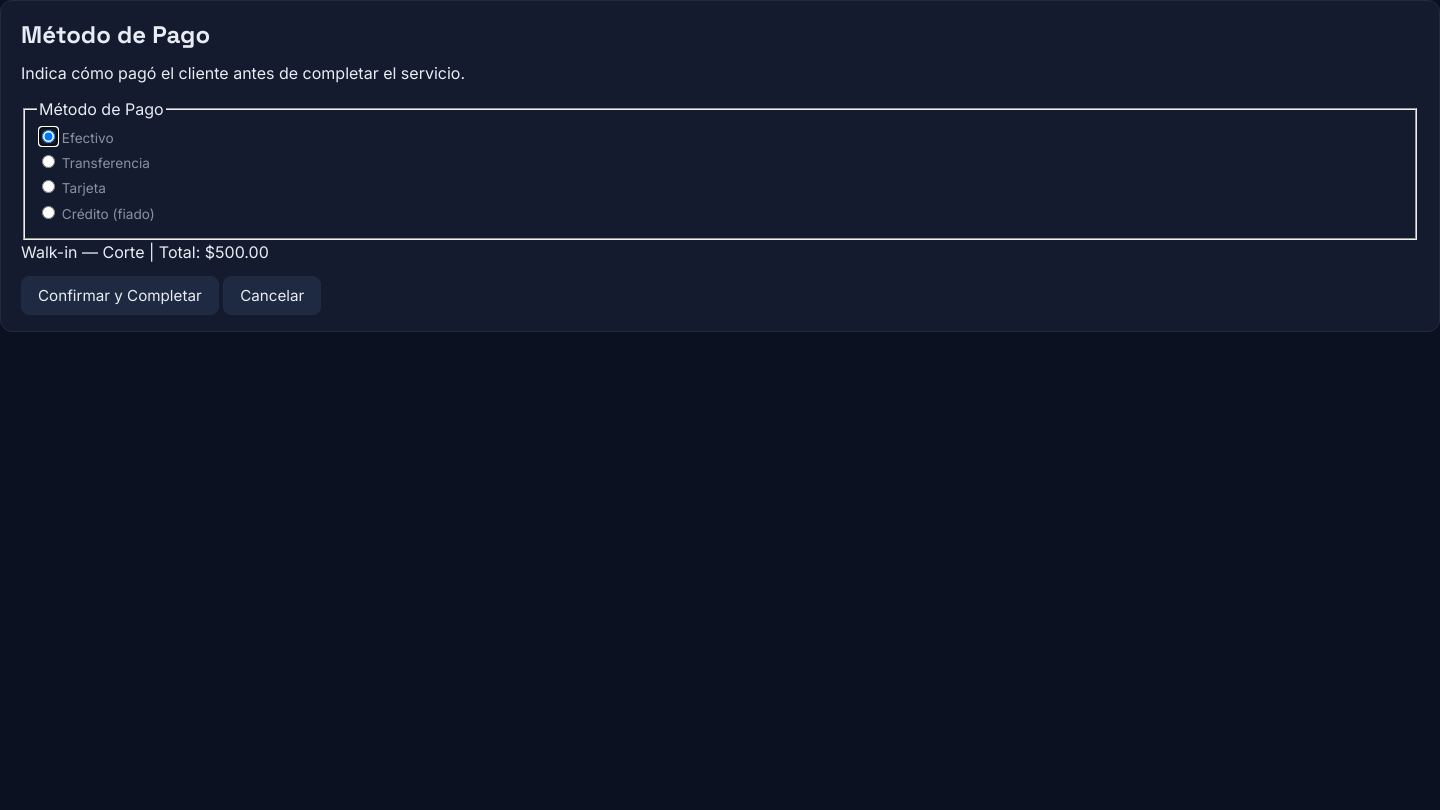
PaymentMethodModal › walk-in + crédito: exige elegir un cliente registrado antes de confirmar
Click the radio button labelled "Crédito (fiado)" at (48, 212), box [42,206,55,219]
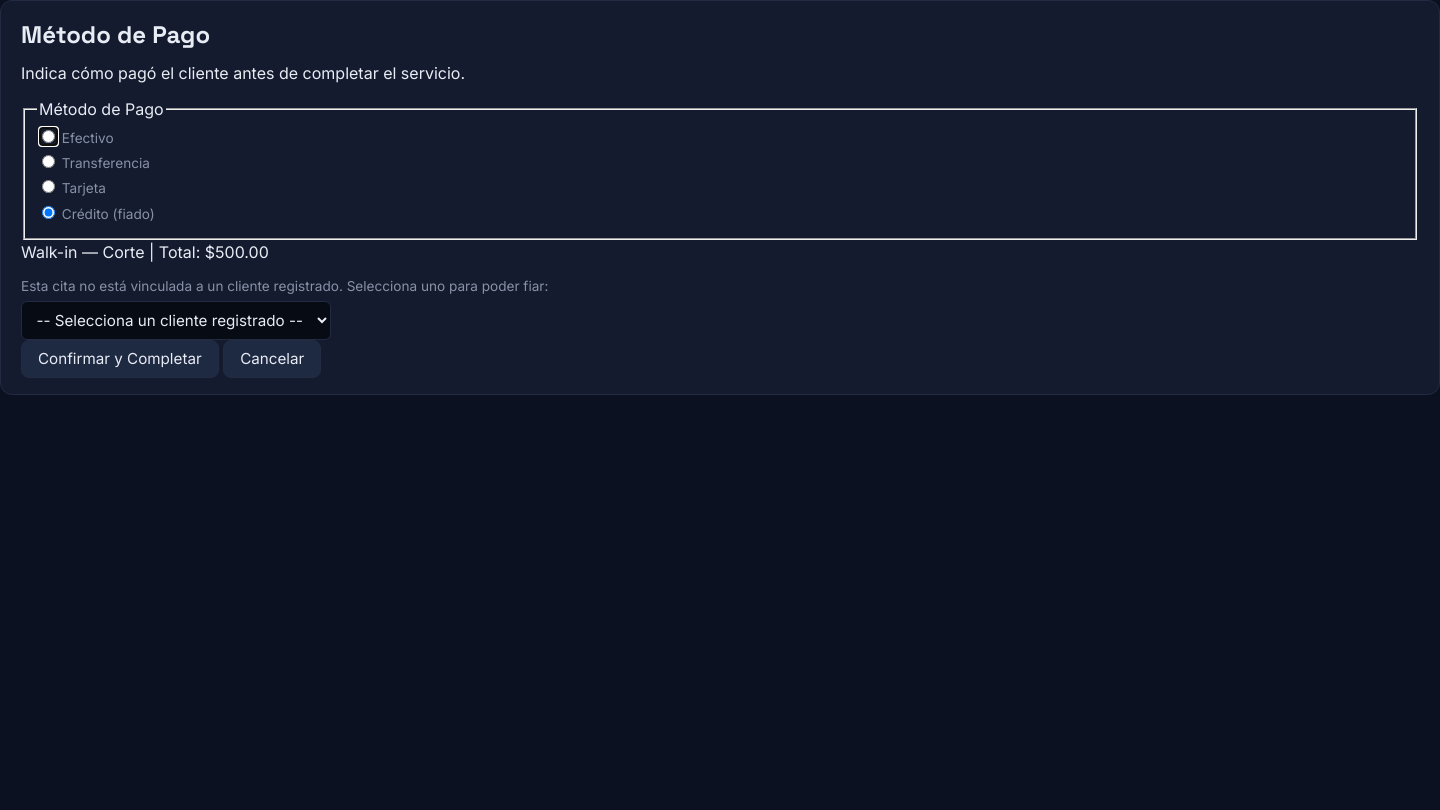
Click the button "Confirmar y Completar" at (120, 359), box [21,340,219,378]
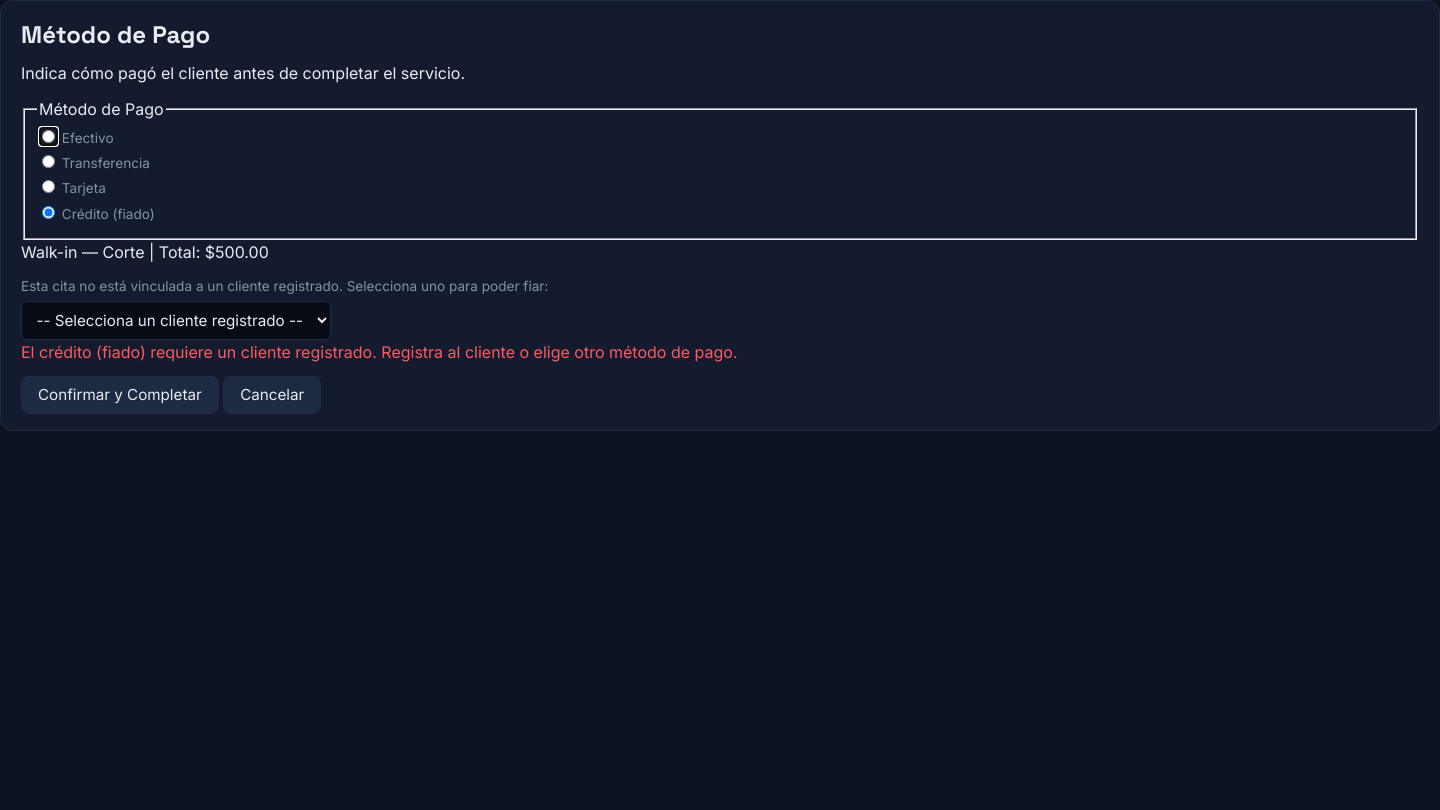
Expected: the message shows "El crédito (fiado) requiere un cliente registrado. Registra al cliente o elige otro método de pago.", [21,342,738,362]
